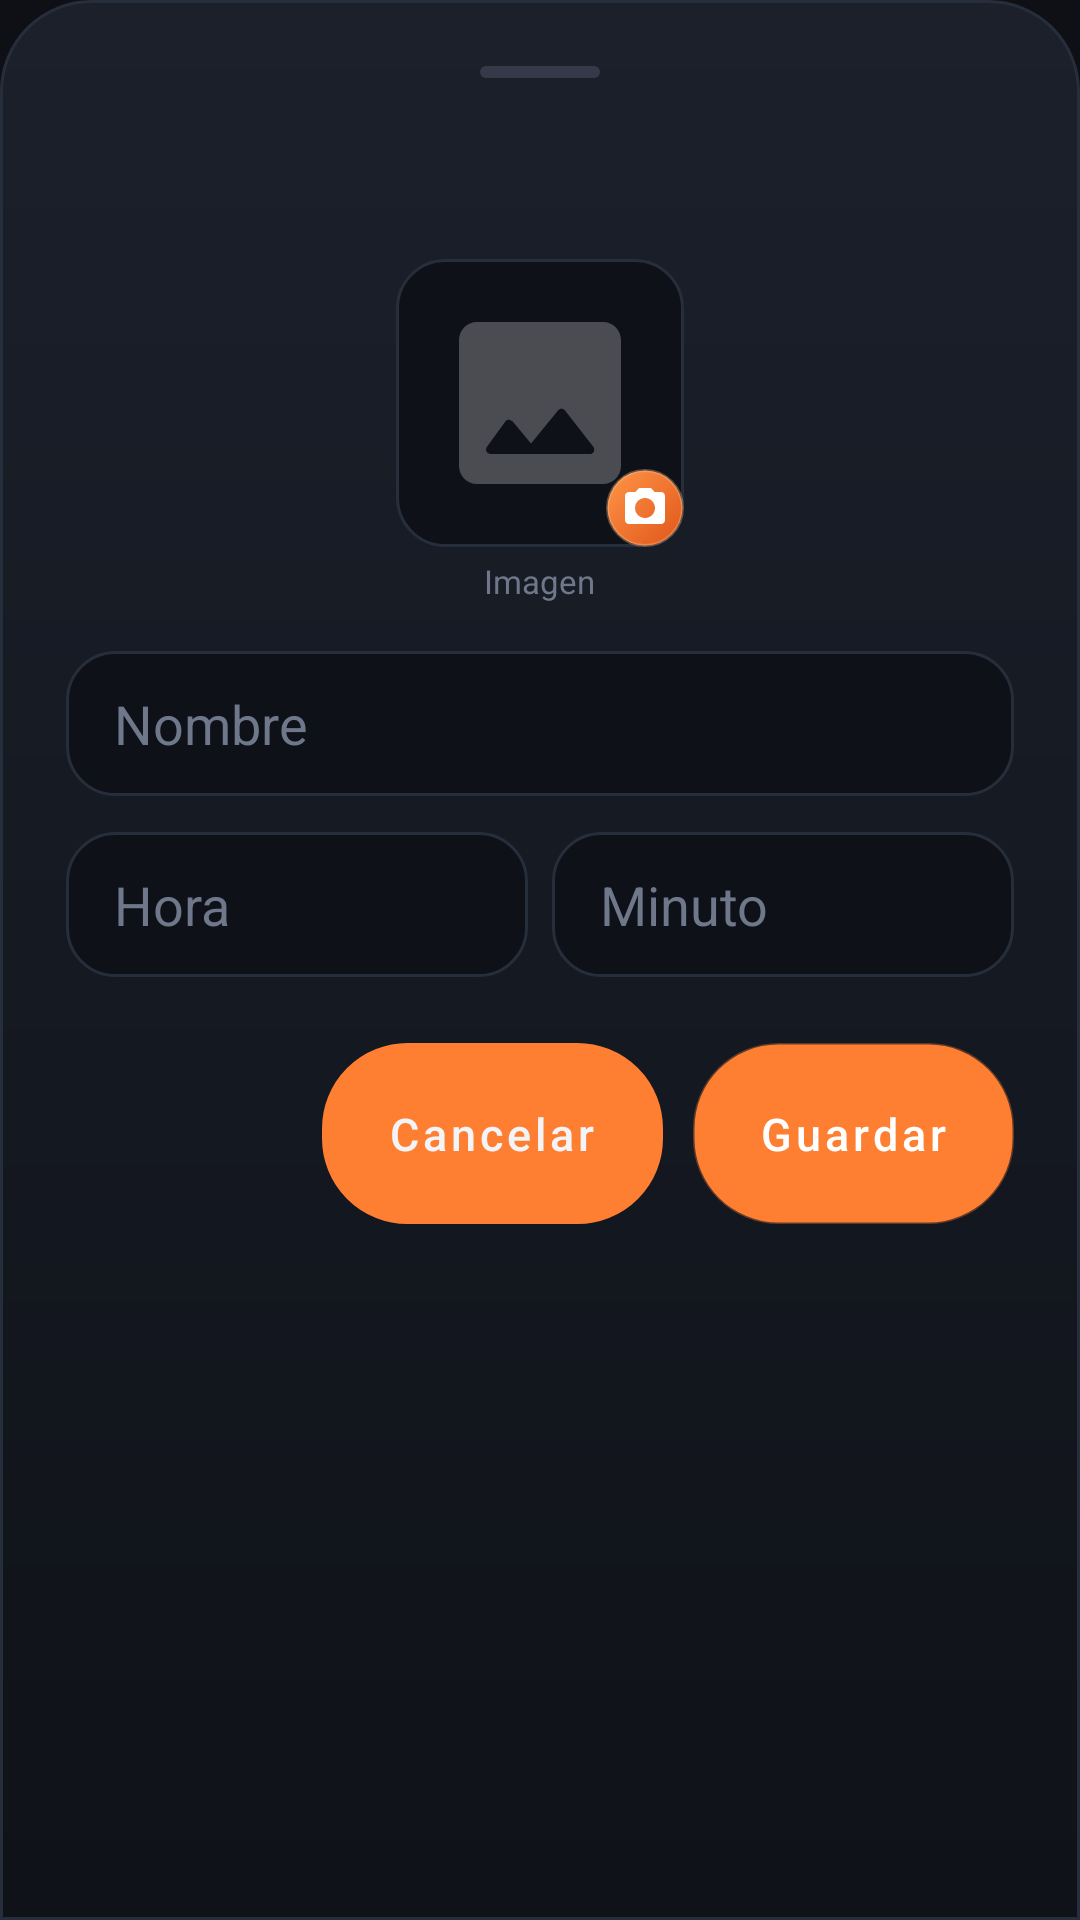

Named icons in this screenshot (1080 × 1920) and their bounding boxes, [x1=x1, y1=y1, x2=x2, y2=y2]:
camera: [x1=606, y1=469, x2=684, y2=547]
